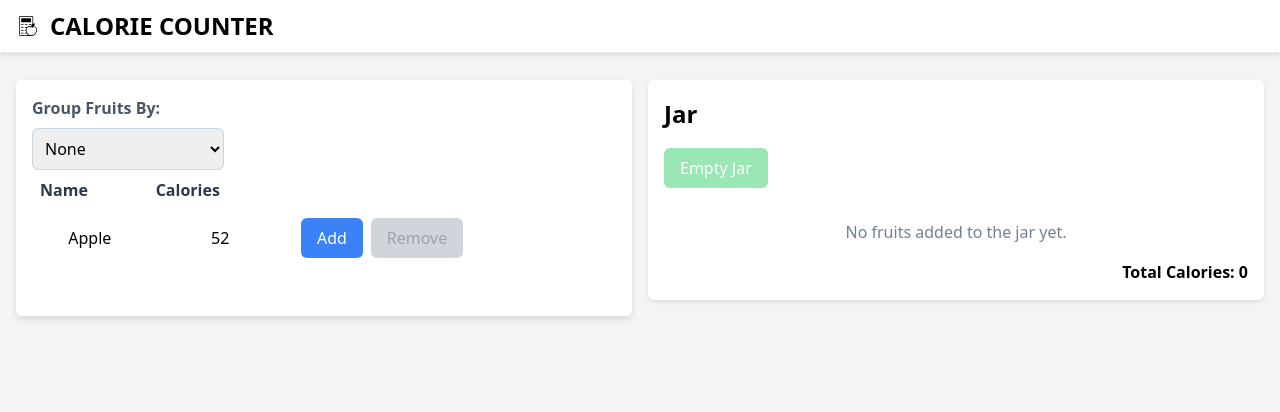
Test: should add Apple to the jar
This screenshot has width=1280, height=412.
What coordinates should you click on to do the following:
click the button with test id "add-Apple"
I would click on:
 (332, 238)
Its box is [301,218,363,258].
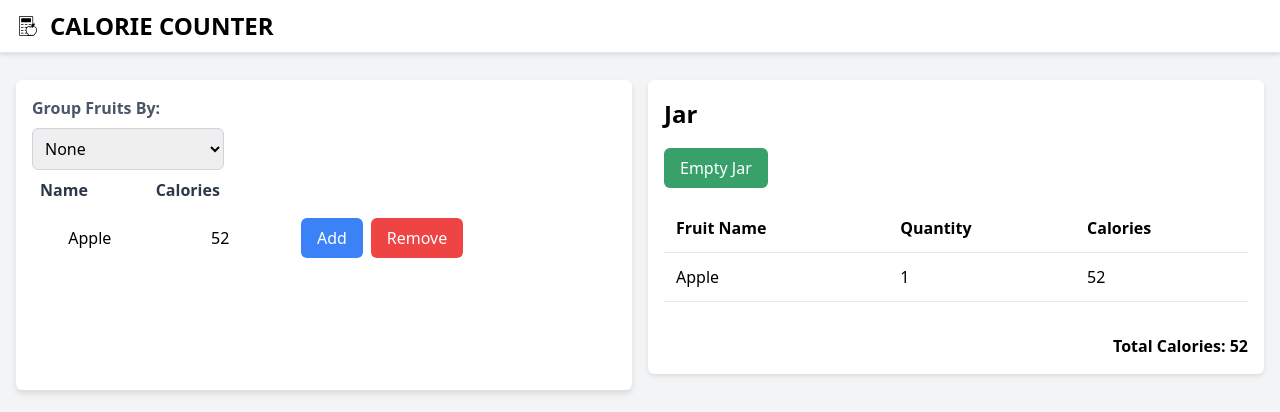
expect the text "Apple" below "Fruit Name" is shown: met, box [676,266,719,288]
